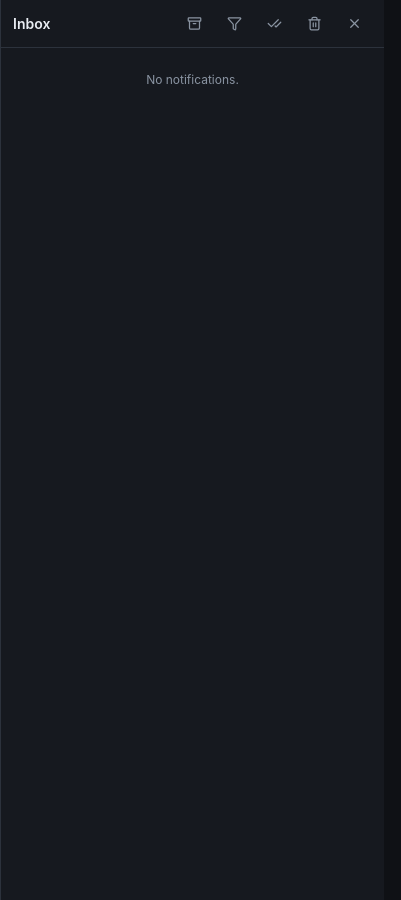
InboxPanel archive search debounce/cancel › a stale in-flight result is dropped after the query changes (cancelled effect)
Click the button titled "Archive — everything, searchable" at [194, 24], box left=176, top=6, right=212, bottom=42
Wait 150 ms
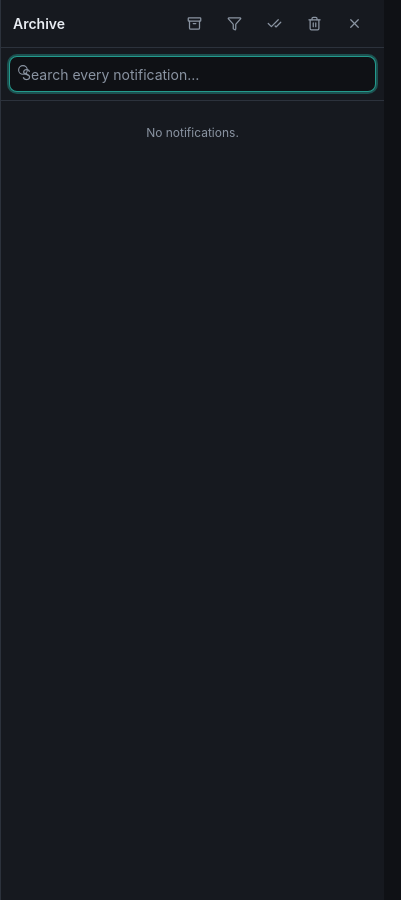
Type "slow" into the field with placeholder "Search every notification…" at [192, 74], box left=9, top=56, right=376, bottom=92
Wait 150 ms
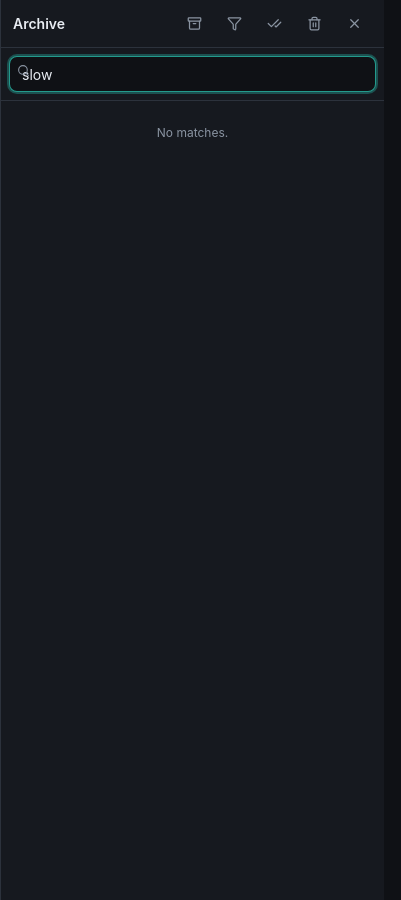
Replace the text in the field with placeholder "Search every notification…" with "fast" at [192, 74], box left=9, top=56, right=376, bottom=92
Wait 150 ms
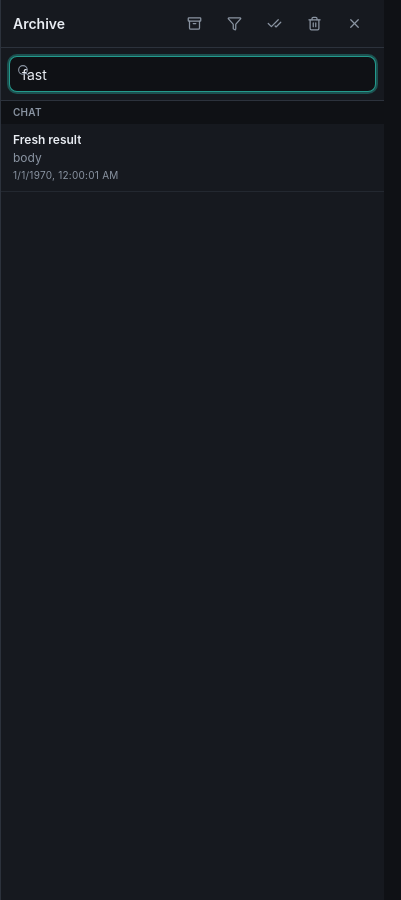
expect the text "Fresh result" is shown: met, box left=13, top=132, right=81, bottom=148
